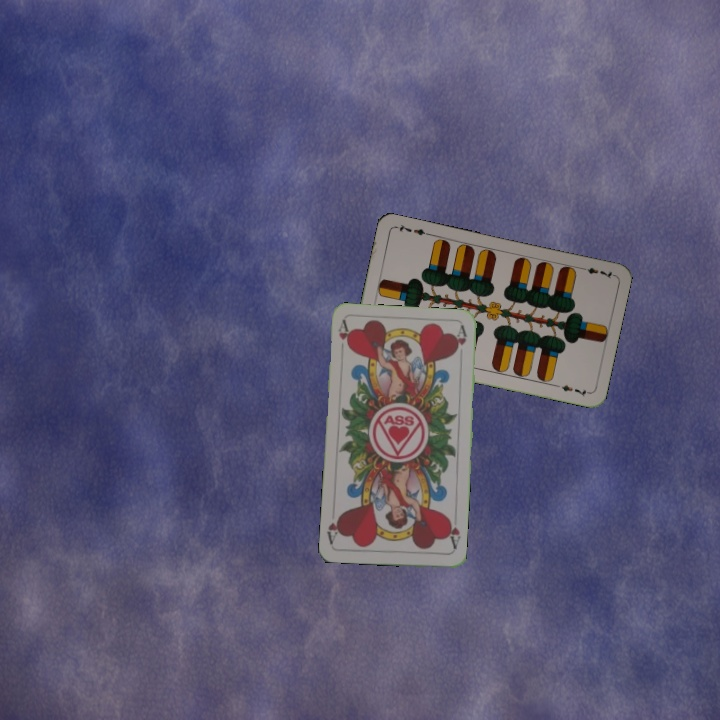E7: (576, 263, 616, 281)
HA: (443, 514, 463, 552), (334, 317, 353, 351)
